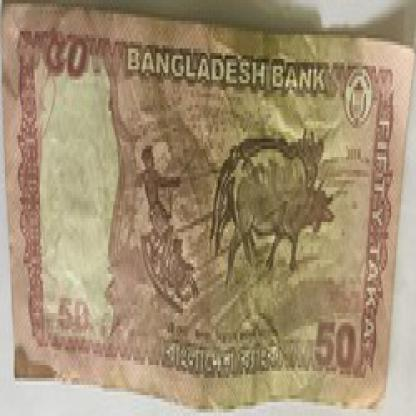Fifty taka: (311, 305, 361, 378), (43, 24, 95, 87)
